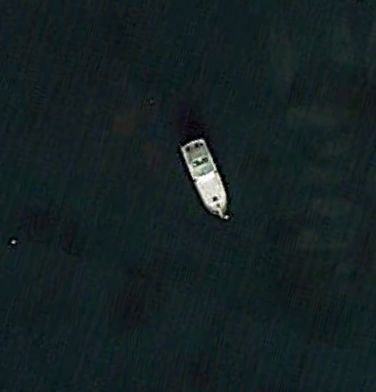boat: (179, 134, 229, 219)
